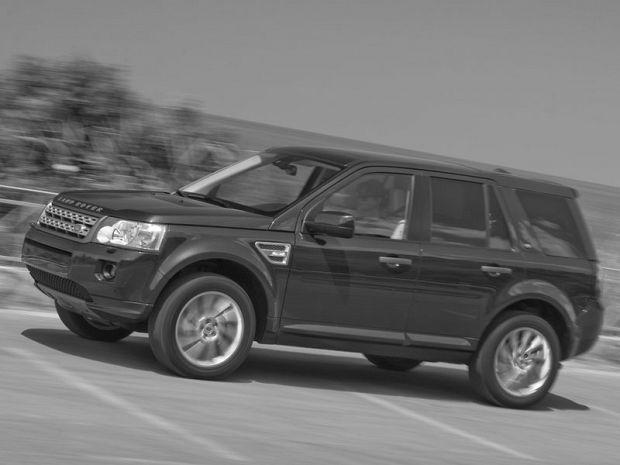car: (23, 145, 603, 410)
